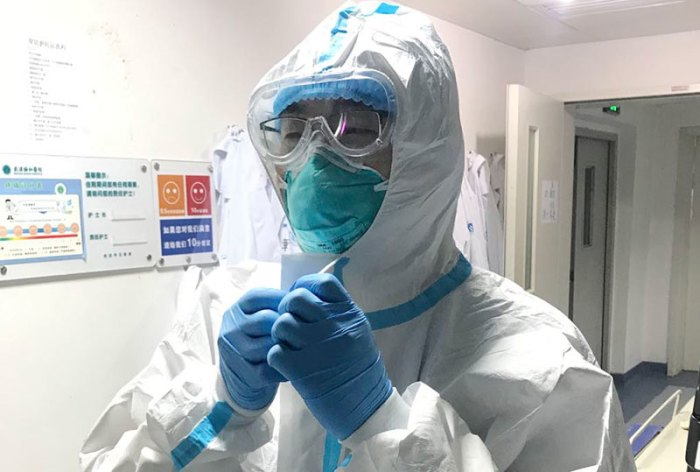Coverall: (114, 5, 606, 472)
Gloves: (268, 268, 420, 443), (211, 279, 294, 414)
Goggles: (237, 89, 400, 161)
with_mask: (244, 98, 399, 256)
